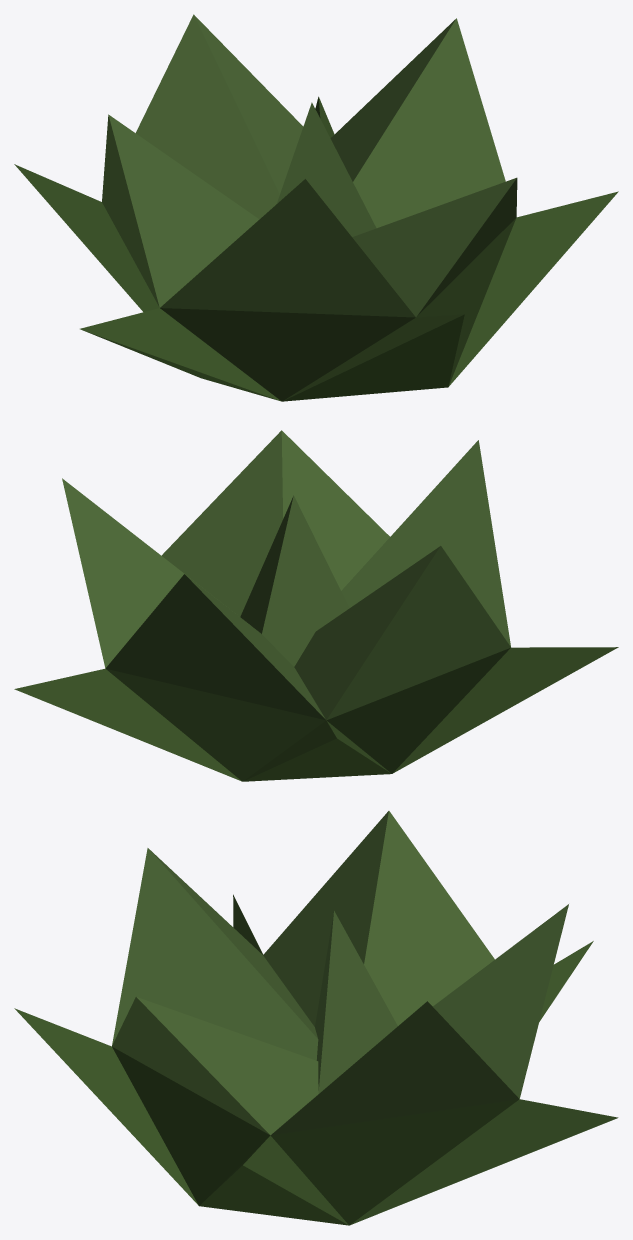
File: BushAutumn5_Alt1.fbx
3 views of the same model, one above another, from view 1: azimuth 30°, elevation 25°; view 2: azimuth 150°, elevation 25°; view 3: azimuth 270°, elevation 25° (orthographic). The views are drawn at different scales.
Visible parts, largest first — view 1: BushAutumn5_Alt1; view 2: BushAutumn5_Alt1; view 3: BushAutumn5_Alt1.
Part boxes in pixels (left/top/right/bottom): BushAutumn5_Alt1: left=14, top=14, right=618, bottom=401; BushAutumn5_Alt1: left=14, top=430, right=618, bottom=781; BushAutumn5_Alt1: left=14, top=811, right=618, bottom=1225.
Bounding box in the file's own units: 0.7751 × 0.3647 × 0.728.
